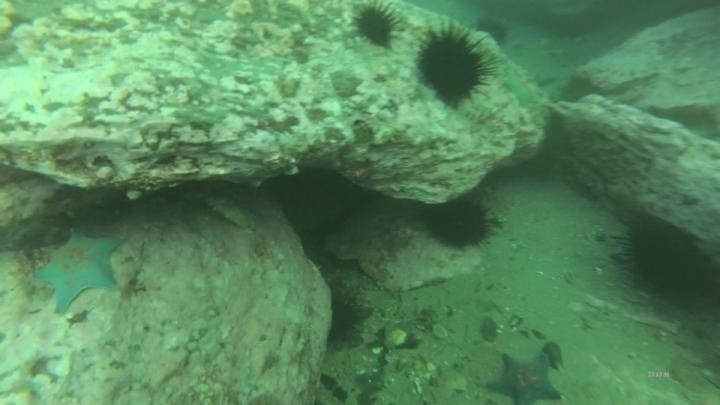echinus: (614, 213, 718, 314), (412, 23, 494, 111), (419, 193, 500, 253), (324, 284, 368, 350), (349, 1, 403, 51), (472, 14, 513, 51)
starfish: (29, 225, 128, 317), (480, 349, 565, 405), (500, 64, 545, 109)
